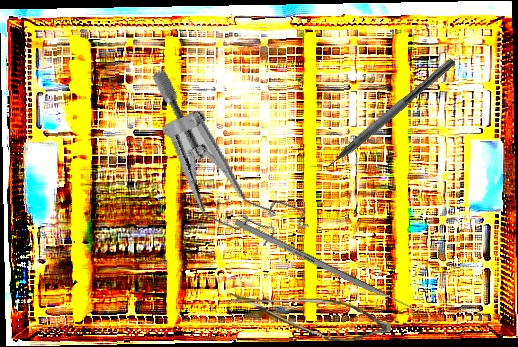Chopper: (308, 48, 457, 181)
Micro Scissor: (226, 293, 391, 341)
Pusher: (233, 218, 424, 317)
Speculum: (106, 66, 345, 263)
